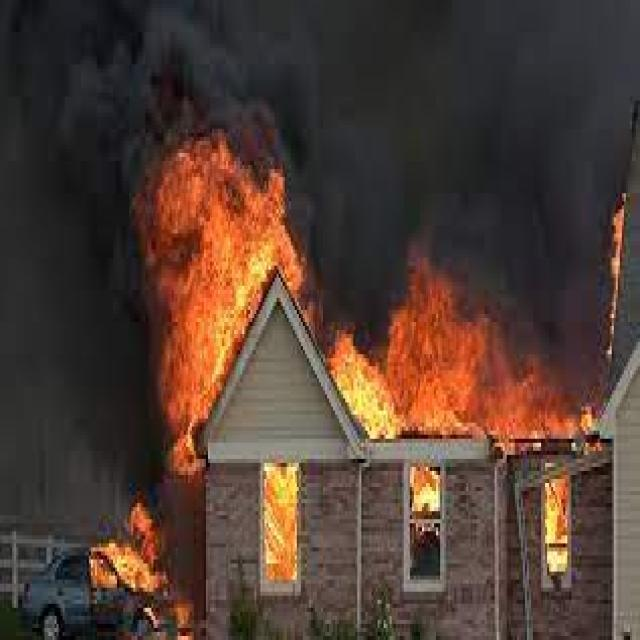Fire: (352, 313, 610, 439), (140, 164, 282, 333)
Smoke: (136, 0, 640, 210), (9, 0, 154, 496), (282, 159, 640, 331)
